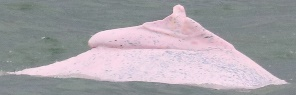fin: (16, 3, 294, 90)
